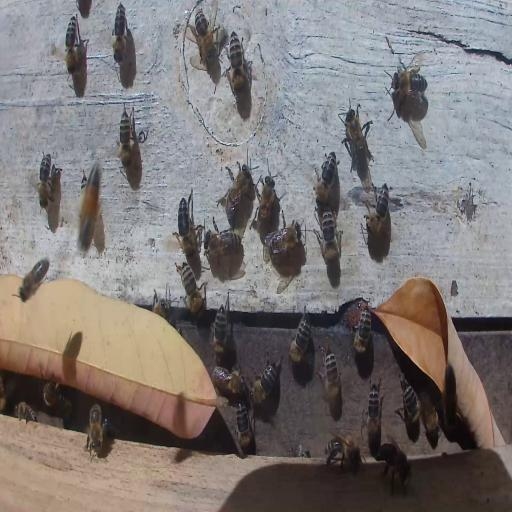nonpollenbee: (218, 163, 252, 221), (342, 106, 369, 172), (324, 429, 361, 471), (16, 257, 50, 302), (388, 66, 430, 102), (318, 206, 342, 268), (177, 263, 205, 316), (380, 444, 412, 490), (319, 346, 341, 412), (288, 305, 312, 365), (205, 225, 243, 261), (267, 220, 300, 261), (366, 182, 390, 238), (313, 150, 337, 206), (250, 356, 279, 402), (350, 303, 372, 363), (176, 191, 196, 256), (398, 379, 422, 433), (365, 377, 384, 444), (228, 30, 246, 96), (258, 171, 277, 233), (234, 399, 254, 456), (192, 10, 212, 66), (43, 380, 72, 418), (213, 364, 244, 396), (38, 150, 54, 211), (118, 106, 132, 170), (87, 403, 104, 455), (113, 3, 127, 64), (65, 14, 78, 75), (211, 303, 227, 352), (424, 405, 440, 441), (14, 402, 38, 424)
pollenbee: (76, 158, 102, 253)
